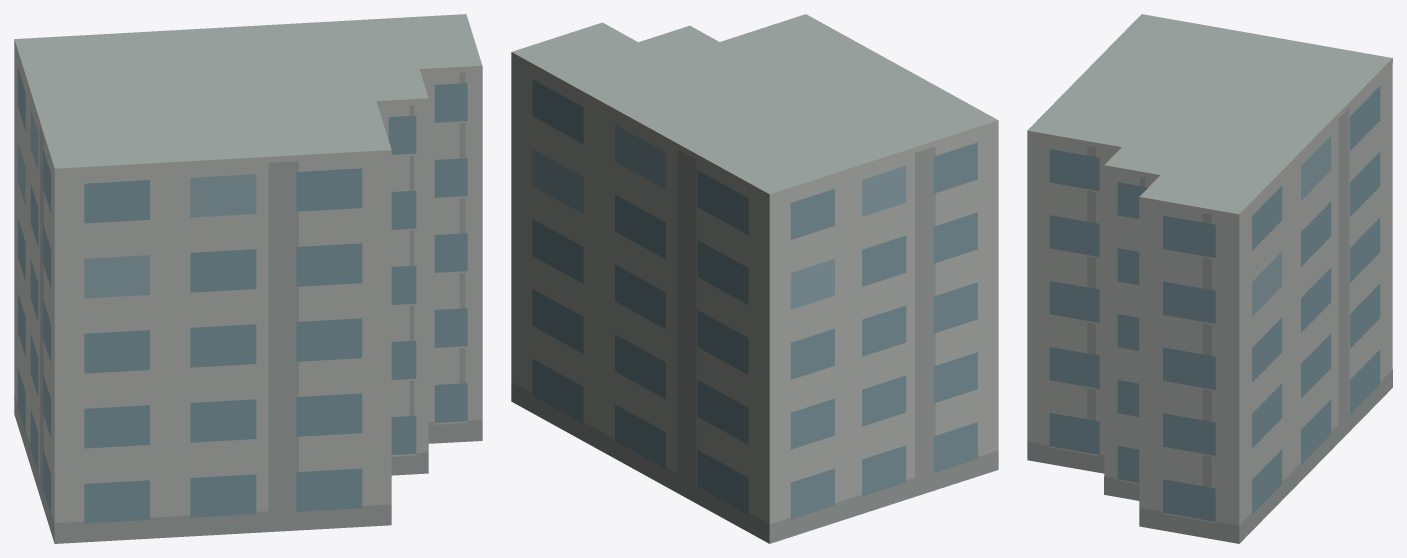
Rendered from residential-789dc800-ebc0-46b5-8165-e3656fd98a9a.glb.
3 renders of one model, left to right at view 1: azimuth 30°, elevation 25°; view 2: azimuth 150°, elevation 25°; view 3: azimuth 270°, elevation 25°, orthographic. The views are drawn at different scales.
Visible parts, largest first — view 1: residential-789dc800-ebc0-46b5-8165-e3656fd98a9a.tmp; view 2: residential-789dc800-ebc0-46b5-8165-e3656fd98a9a.tmp; view 3: residential-789dc800-ebc0-46b5-8165-e3656fd98a9a.tmp.
Part boxes in pixels (left/top/right/bottom): residential-789dc800-ebc0-46b5-8165-e3656fd98a9a.tmp: left=14, top=14, right=482, bottom=543; residential-789dc800-ebc0-46b5-8165-e3656fd98a9a.tmp: left=511, top=14, right=998, bottom=543; residential-789dc800-ebc0-46b5-8165-e3656fd98a9a.tmp: left=1027, top=14, right=1392, bottom=543.
Bounding box in the file's own units: 19.89 × 15.25 × 15.34.
